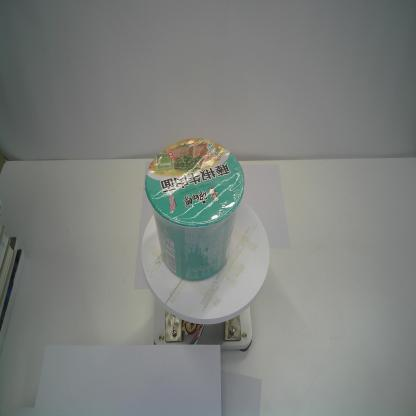Instant Noodles: (143, 134, 247, 283)
